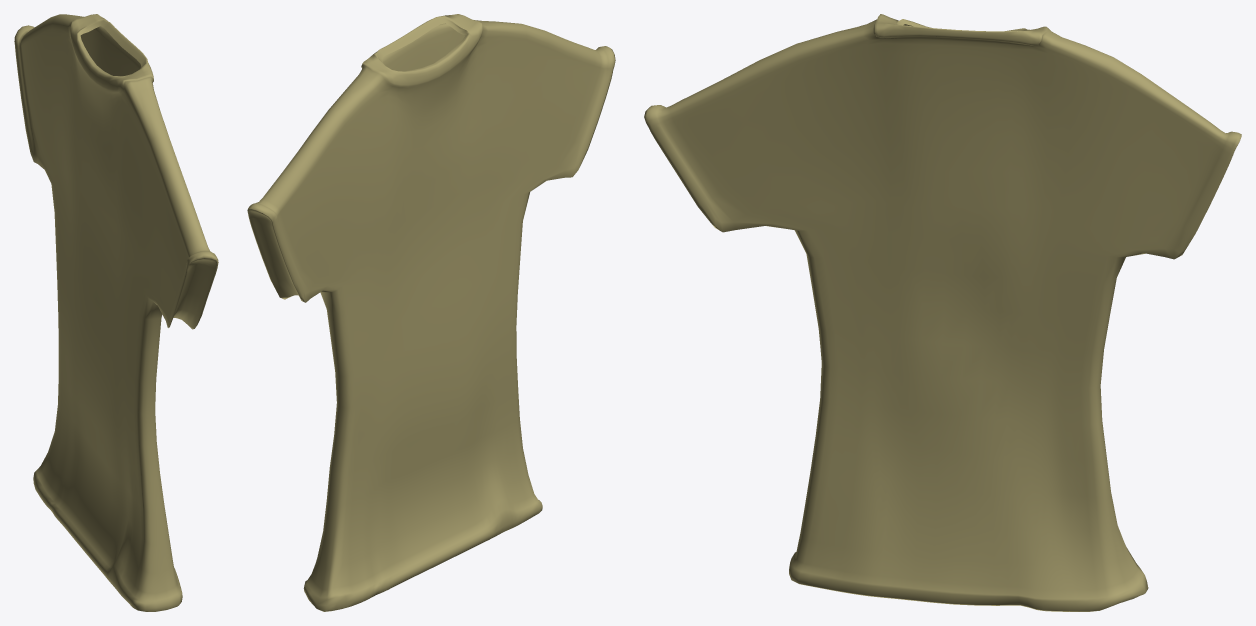
File: 3DGAME_Yellow_Shirt.fbx
3 views of the same model, side by side, from view 1: azimuth 30°, elevation 25°; view 2: azimuth 150°, elevation 25°; view 3: azimuth 270°, elevation 25° (orthographic). The views are drawn at different scales.
Visible parts, largest first — view 1: pCube1; view 2: pCube1; view 3: pCube1.
Boxes of the visible parts, <box> form: pCube1: <box>14,14,218,611</box>; pCube1: <box>247,14,615,611</box>; pCube1: <box>644,14,1241,611</box>.
Bounding box in the file's own units: 0.1964 × 0.9058 × 0.8662.
